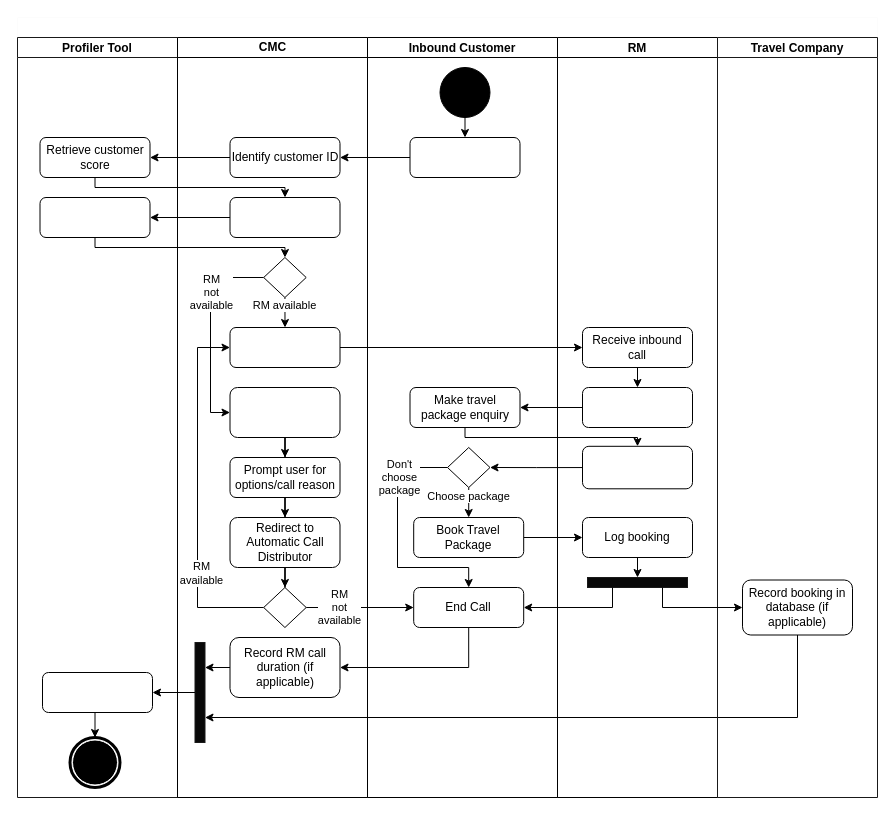
The diagram is 895 pixels wide and 815 high, and some of its shapes have lost their labels. The centre of each missing label's shape, as x and y in pixels:
"Adjust profile scores" goes at (97,692).
"Call travel company" goes at (464,157).
"Direct to RM" goes at (284,347).
"Match to RM" goes at (284,217).
"Provide package information" goes at (637,467).
"Redirect to Interactive Voice Response unit" goes at (284,412).
"Request call purpose" goes at (637,407).
"Retrieve RM score" goes at (94,217).
